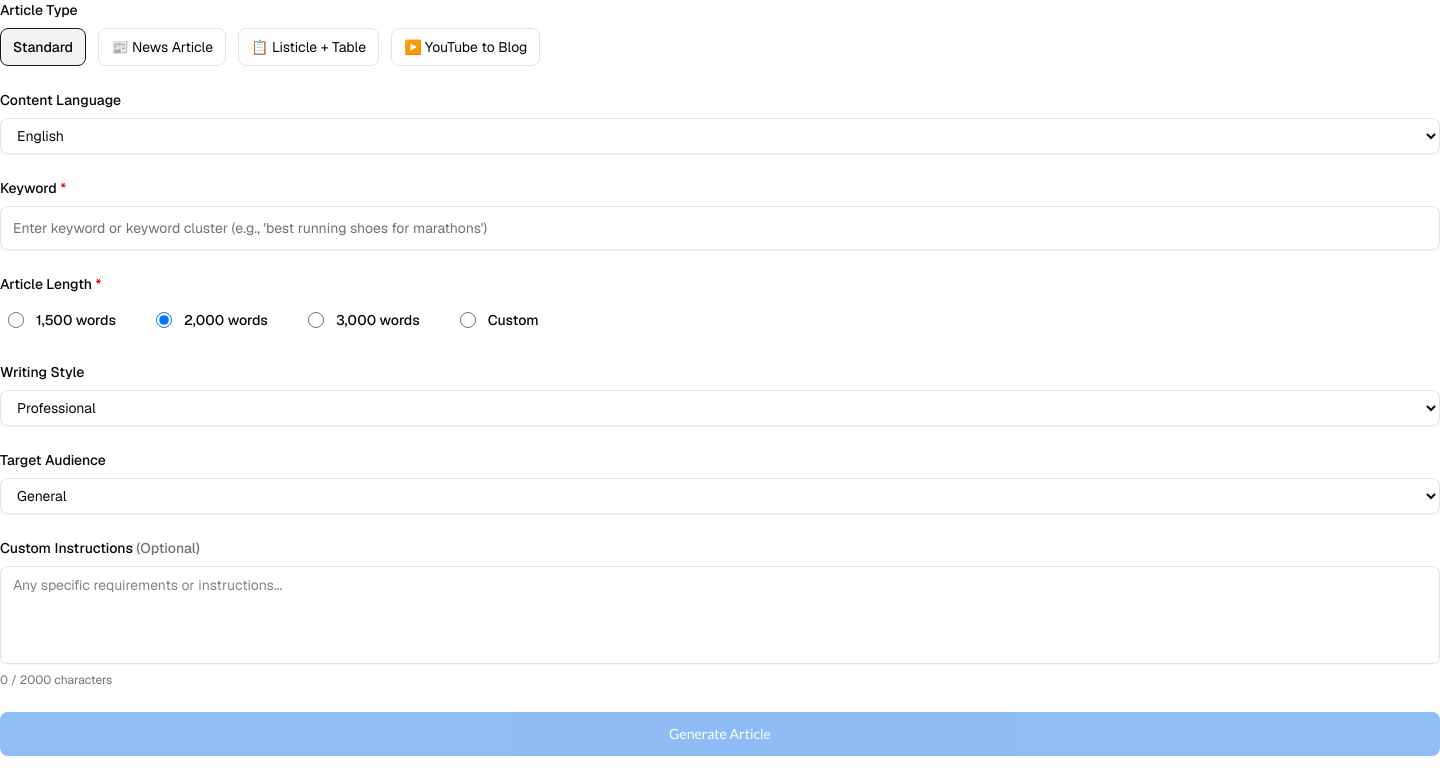
Test case: ArticleGenerationForm › should validate custom word count range
This screenshot has width=1440, height=784.
// Fill keyword so button is enabled
Replace the text in the field labelled "Keyword *" with "test keyword" at (720, 228), box [0, 206, 1439, 250]
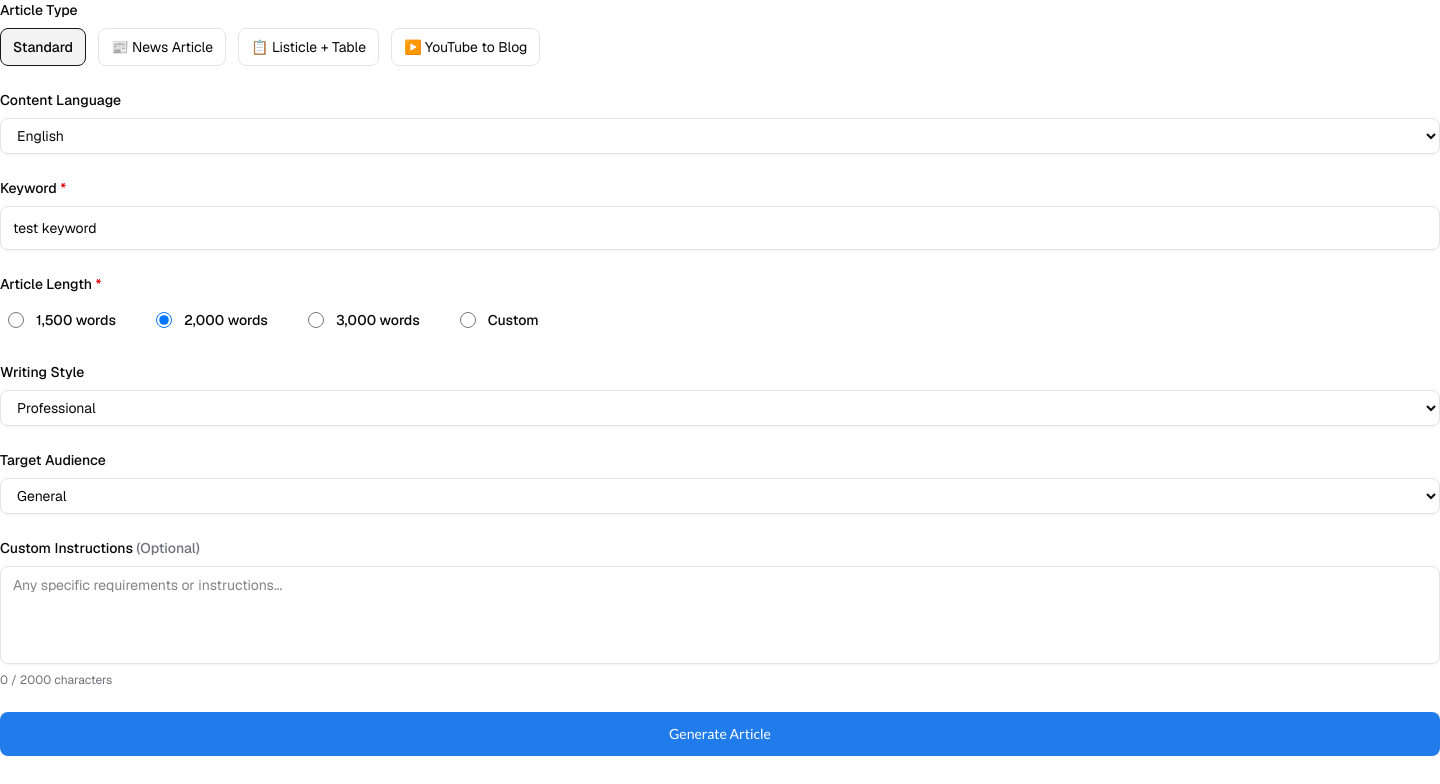
// Select custom word count
Click the radio button labelled "Custom" at (468, 320), box [460, 312, 476, 328]
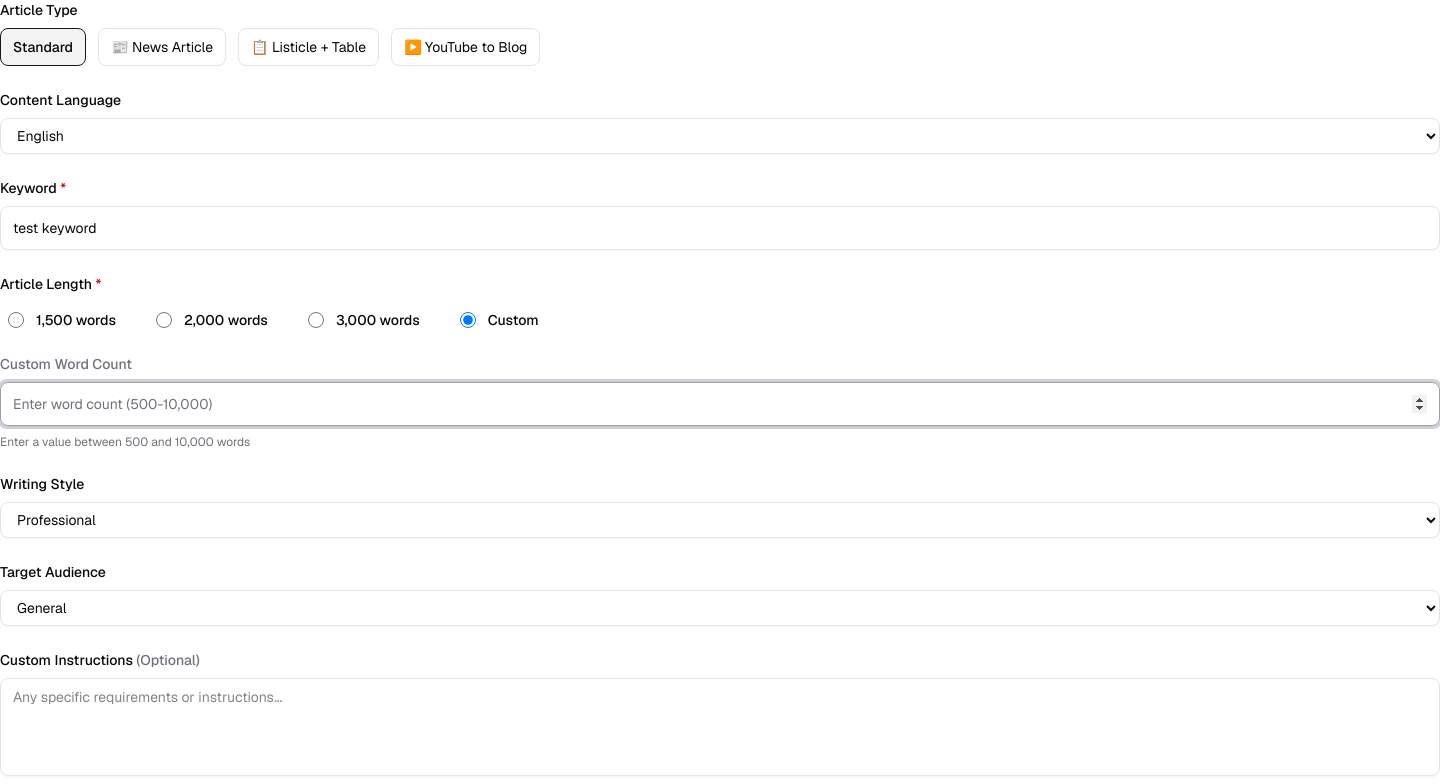
Type "100" into the number field with placeholder "Enter word count (500-10,000)" at (720, 404), box [0, 382, 1439, 426]
(page scrolled)
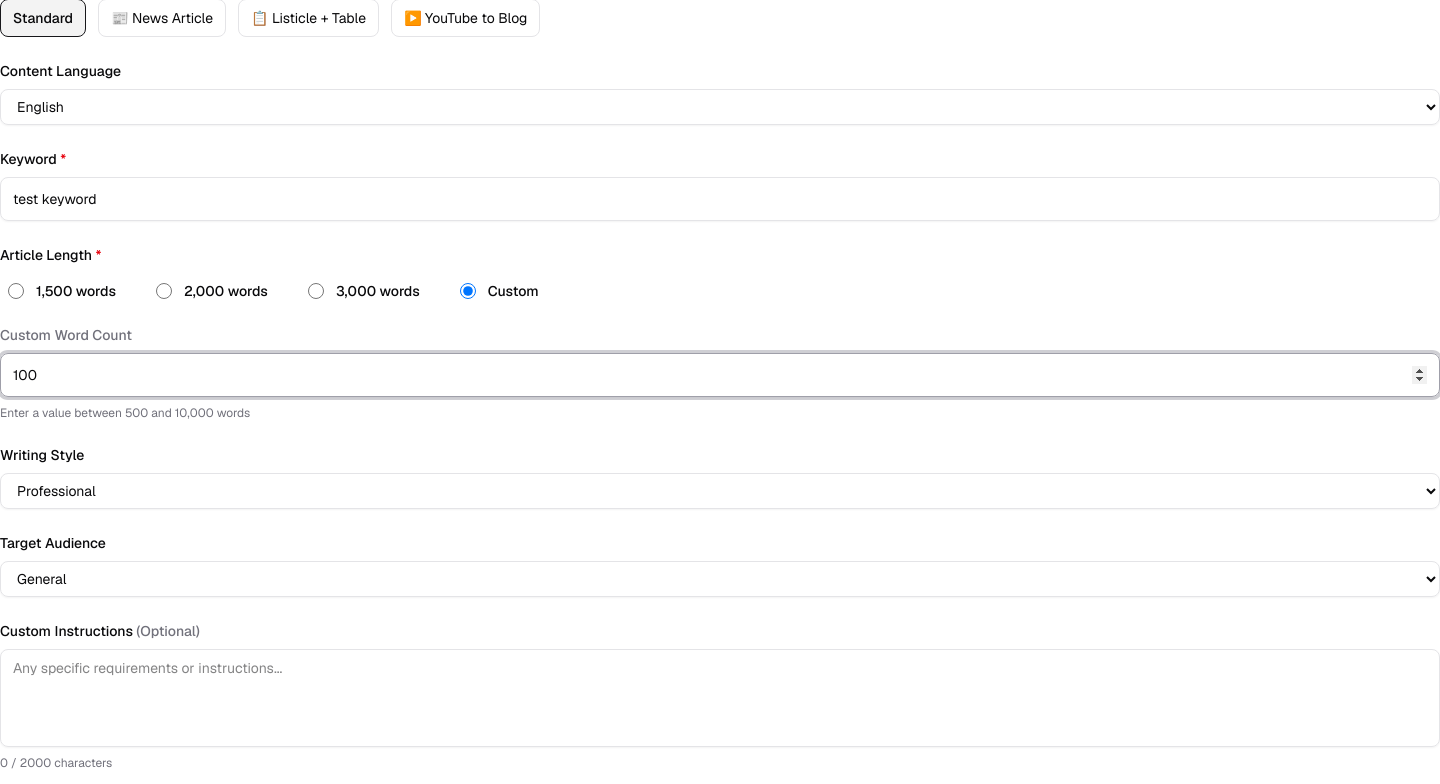
Submit the form named "keyword"
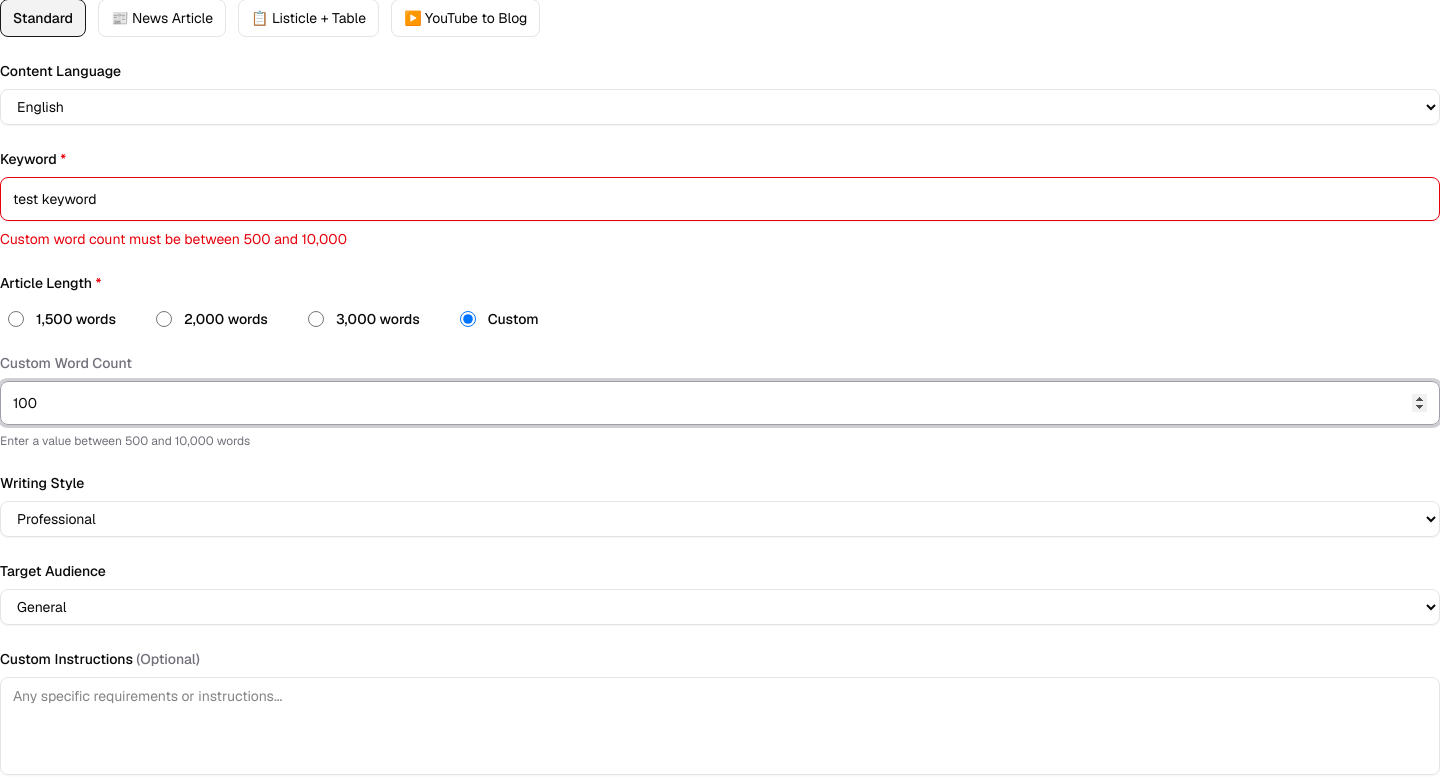
Expected: the text "Custom word count must be between 500 and 10,000" is shown, [0, 230, 347, 248]
